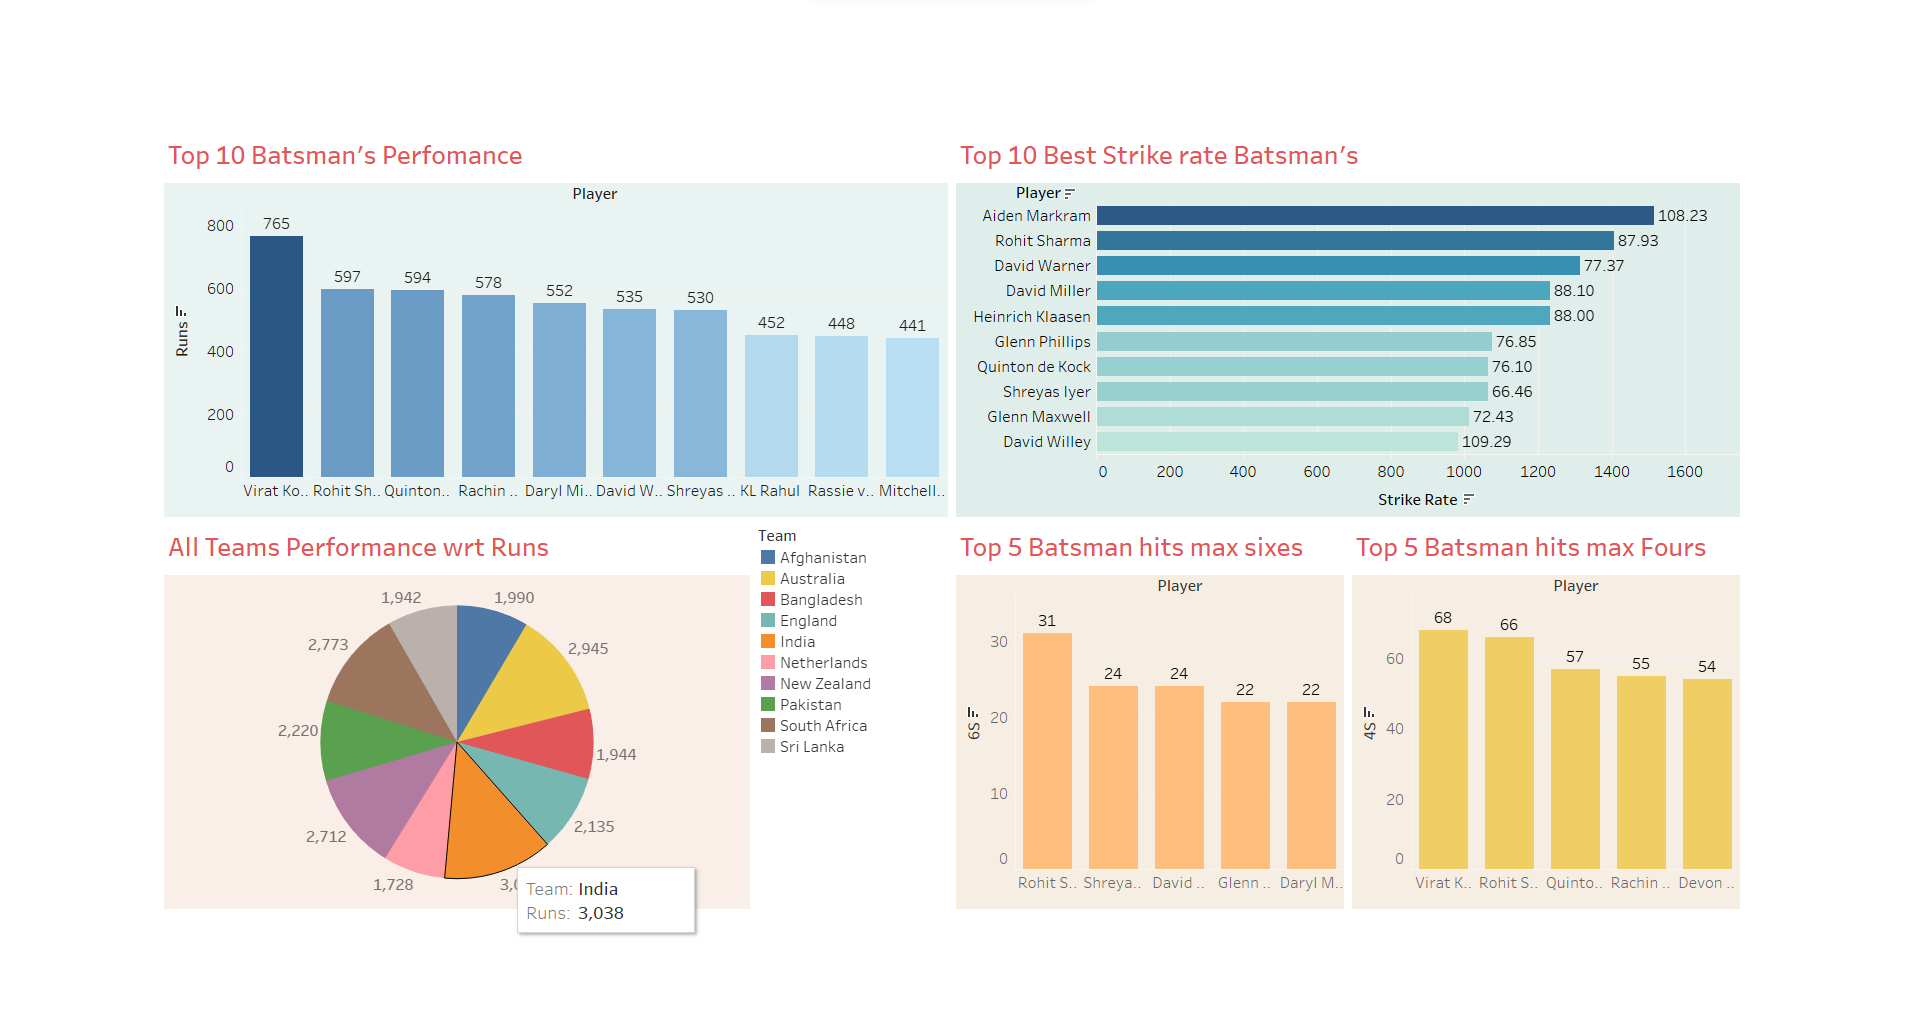

The dashboard page shown, as its layout file describes it:
{"tool":"tableau","page":{"name":"Batsman's Dashboard","canvas":[1600,800],"ordinal":0},"visuals":[{"type":"worksheet","title":"Top 10 Batsman's Perfomance","mark":"Automatic","rows":["runs"],"cols":["player"],"box":[8,8,792,392]},{"type":"worksheet","title":"Top 10 Best Strike rate Batsman's","mark":"Automatic","rows":["player"],"cols":["strike_rate"],"box":[800,8,792,392]},{"type":"worksheet","title":"All Teams Performance wrt Runs","mark":"Pie","box":[8,400,594,392]},{"type":"legend","title":"All Teams Performance wrt Runs","param":"[federated.18ckpd617ftwlq12wqps31ezmsle].[none:team:nk]","box":[602,400,198,392]},{"type":"worksheet","title":"Top 5 Batsman hits max sixes","mark":"Automatic","rows":["6s"],"cols":["player"],"box":[800,400,396,392]},{"type":"worksheet","title":"Top 5 Batsman hits max Fours","mark":"Automatic","rows":["4s"],"cols":["player"],"box":[1196,400,396,392]}]}

Visuals, with their boxes on the page's 1600x800 design canvas (x1, y1, x2, y2). These are canvas units, not pixel positions in the 1912x1023 screenshot, which may show the page scaled, cropped or inside an application window:
"Top 10 Batsman's Perfomance" worksheet: [left=8, top=8, right=800, bottom=400]
"Top 10 Best Strike rate Batsman's" worksheet: [left=800, top=8, right=1592, bottom=400]
"All Teams Performance wrt Runs" worksheet (Pie marks): [left=8, top=400, right=602, bottom=792]
"All Teams Performance wrt Runs" legend: [left=602, top=400, right=800, bottom=792]
"Top 5 Batsman hits max sixes" worksheet: [left=800, top=400, right=1196, bottom=792]
"Top 5 Batsman hits max Fours" worksheet: [left=1196, top=400, right=1592, bottom=792]
